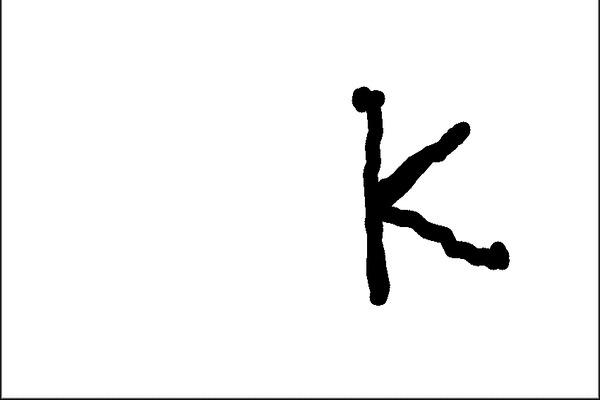K: (342, 80, 518, 311)
